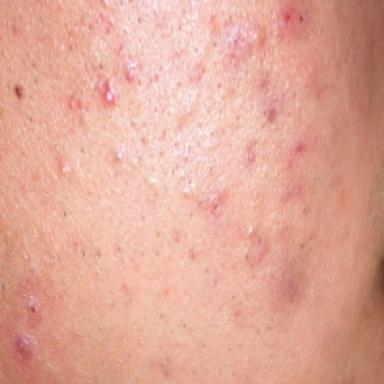acne: (199, 189, 228, 219), (280, 4, 305, 36), (13, 333, 36, 360), (281, 277, 299, 303), (27, 293, 40, 315), (103, 80, 115, 103), (67, 94, 82, 111), (246, 141, 256, 163), (257, 26, 265, 45), (295, 141, 305, 154), (125, 67, 134, 81), (259, 77, 268, 88), (247, 224, 253, 237)
